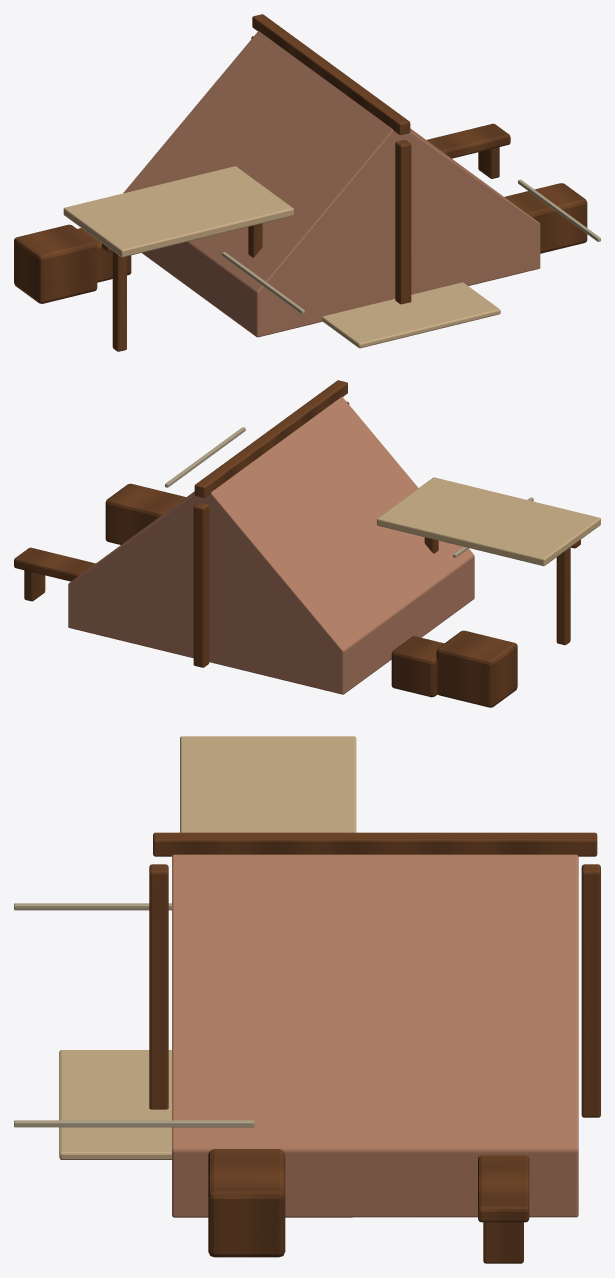
File: CampFamilyV1.glb
3 renders of one model, top to bottom at view 1: azimuth 30°, elevation 25°; view 2: azimuth 150°, elevation 25°; view 3: azimuth 270°, elevation 25°, orthographic. The views are drawn at different scales.
Parts seen in each view (by area): view 1: Camp_Tent, Camp_Awning, Camp_Supplies, Camp_Activity, Camp_Timber, Camp_Detail; view 2: Camp_Tent, Camp_Awning, Camp_Supplies, Camp_Timber, Camp_Activity, Camp_Detail; view 3: Camp_Tent, Camp_Timber, Camp_Awning, Camp_Activity, Camp_Supplies, Camp_Detail.
Boxes of the visible parts, x1,y1,x2,y2 form: Camp_Tent: [123, 31, 540, 337]; Camp_Awning: [63, 166, 293, 351]; Camp_Supplies: [14, 183, 587, 303]; Camp_Activity: [322, 123, 510, 348]; Camp_Timber: [251, 14, 411, 304]; Camp_Detail: [222, 179, 600, 313]; Camp_Tent: [68, 397, 474, 694]; Camp_Awning: [377, 477, 600, 645]; Camp_Supplies: [105, 483, 517, 707]; Camp_Timber: [193, 380, 349, 667]; Camp_Activity: [14, 547, 95, 601]; Camp_Detail: [165, 427, 533, 557]; Camp_Tent: [172, 854, 578, 1217]; Camp_Timber: [149, 832, 600, 1117]; Camp_Awning: [180, 736, 356, 832]; Camp_Activity: [59, 1050, 529, 1263]; Camp_Supplies: [208, 1149, 285, 1257]; Camp_Detail: [14, 903, 254, 1127].
Size of the model in its own units: 7.92 by 2.88 by 5.49.
7 materials, 4 textured.
